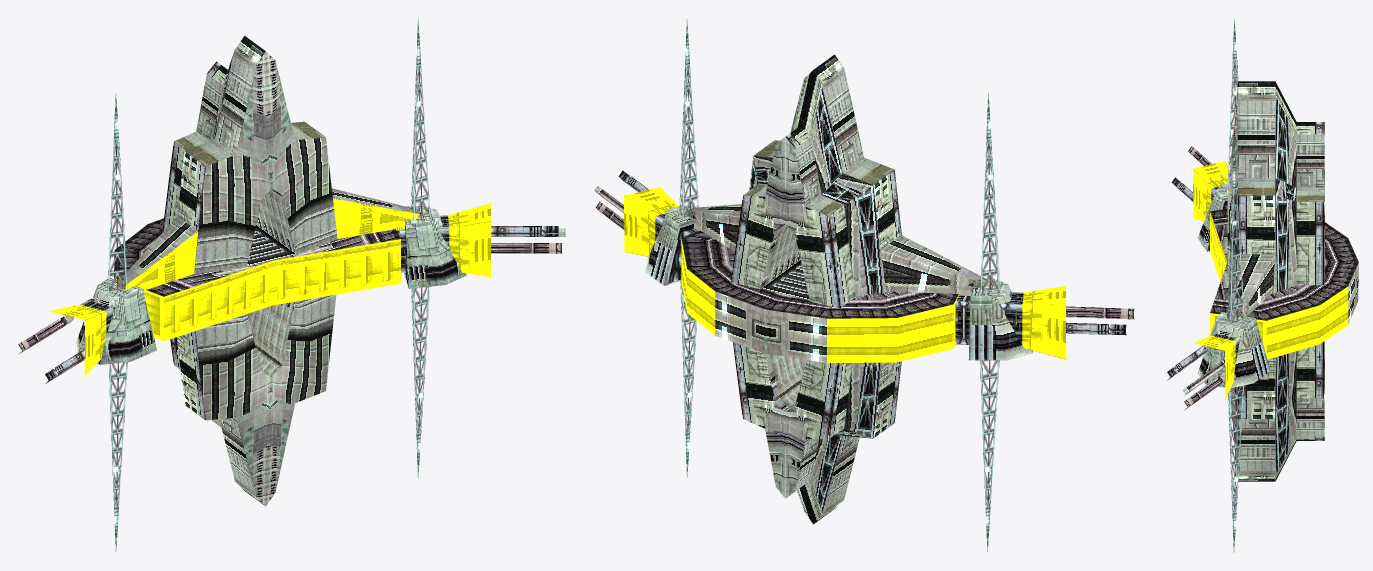
The model's file is tnaval_cmp.gltf.
3 renders of one model, left to right at view 1: azimuth 30°, elevation 25°; view 2: azimuth 150°, elevation 25°; view 3: azimuth 270°, elevation 25°, orthographic. The views are drawn at different scales.
Parts seen in each view (by area): view 1: Root, connect_L2, connect_R2; view 2: Root, connect_R2, connect_L2; view 3: Root, connect_L2, connect_R2.
Part boxes in pixels (bbox=[...]): Root: bbox=[49, 19, 491, 551]; connect_L2: bbox=[491, 226, 565, 253]; connect_R2: bbox=[18, 315, 84, 383]; Root: bbox=[624, 19, 1066, 551]; connect_R2: bbox=[1066, 306, 1134, 335]; connect_L2: bbox=[594, 170, 648, 229]; Root: bbox=[1193, 18, 1358, 552]; connect_L2: bbox=[1167, 345, 1224, 410]; connect_R2: bbox=[1171, 146, 1211, 201].
Bounding box in the file's own units: 32.23 × 26.5 × 11.38.
12 materials, 12 textured.
